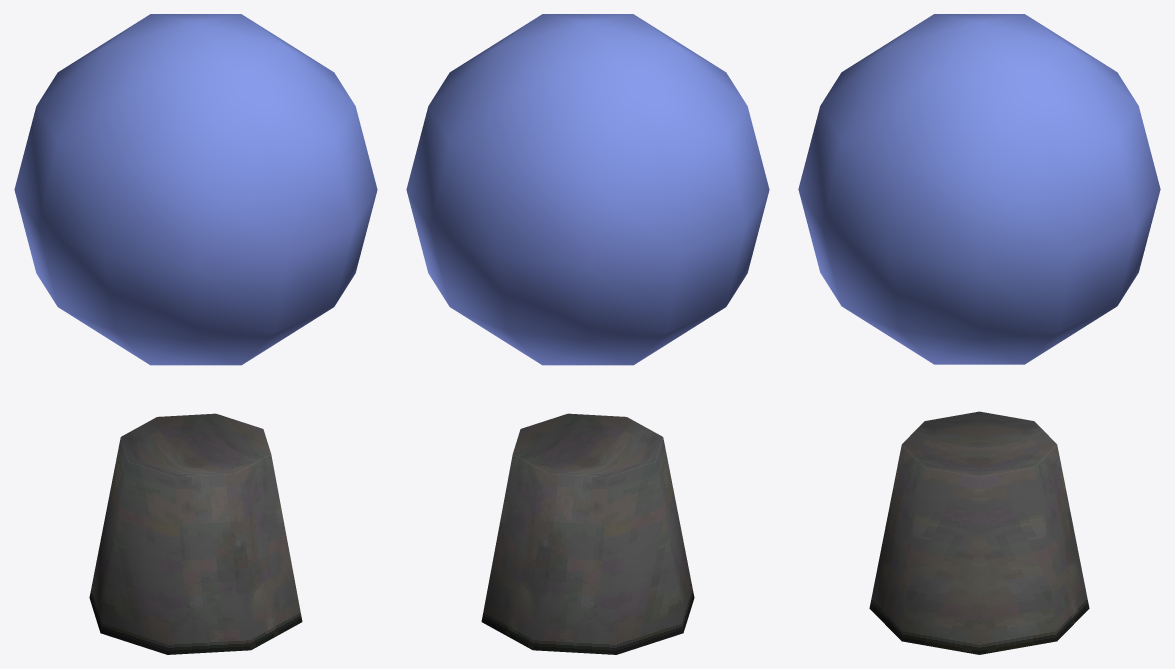
The model's file is lifeday_orb_l1.fbx.
3 views of the same model, side by side, from view 1: azimuth 30°, elevation 25°; view 2: azimuth 150°, elevation 25°; view 3: azimuth 270°, elevation 25° (orthographic).
Parts seen in each view (by area): view 1: mesh_node; view 2: mesh_node; view 3: mesh_node.
Boxes of the visible parts, x1,y1,x2,y2 form: mesh_node: [14, 14, 377, 654]; mesh_node: [406, 14, 769, 654]; mesh_node: [798, 14, 1160, 654].
Size of the model in its own units: 0.2138 by 0.3816 by 0.2138.
